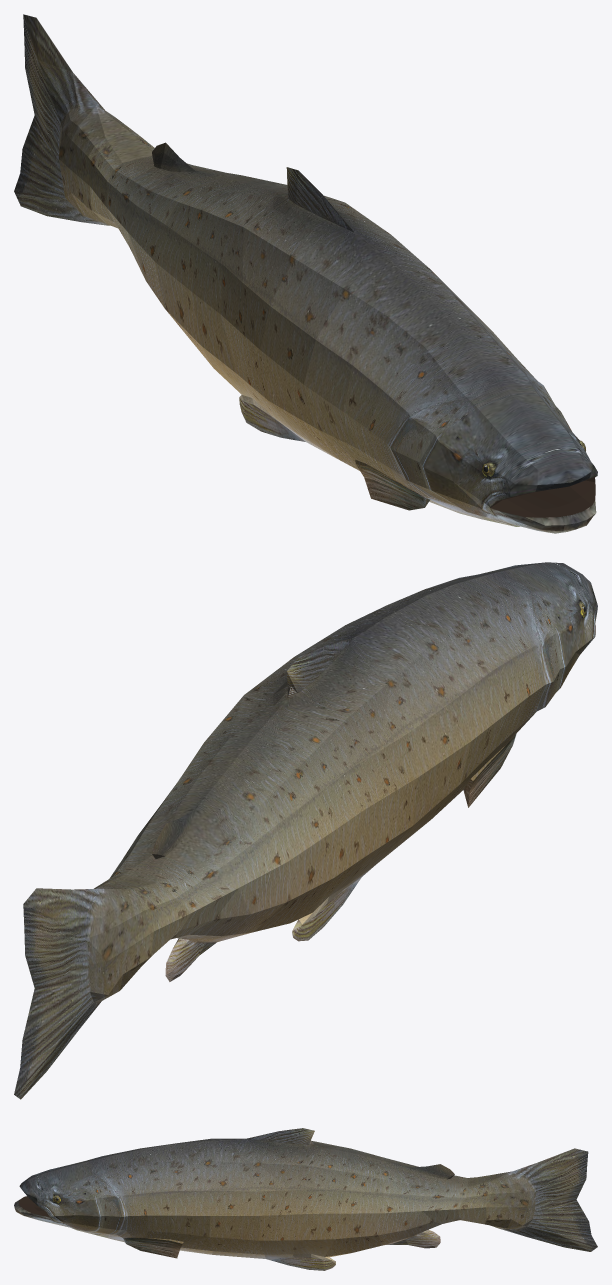
Rendered from Fish.fbx.
3 views of the same model, one above another, from view 1: azimuth 30°, elevation 25°; view 2: azimuth 150°, elevation 25°; view 3: azimuth 270°, elevation 25° (orthographic). The views are drawn at different scales.
Visible parts, largest first — view 1: Fish; view 2: Fish; view 3: Fish.
Part boxes in pixels (x1,y1,x2,y2): Fish: (14, 14, 597, 533); Fish: (14, 562, 597, 1099); Fish: (14, 1128, 597, 1270).
Size of the model in its own units: 88.39 by 131 by 514.
Materials: 2 (1 with a texture image).
